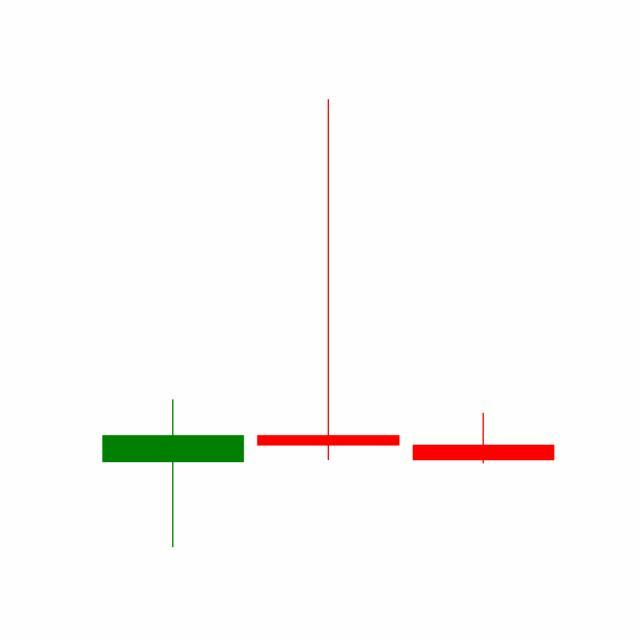Spinning Top: (250, 96, 407, 466)
